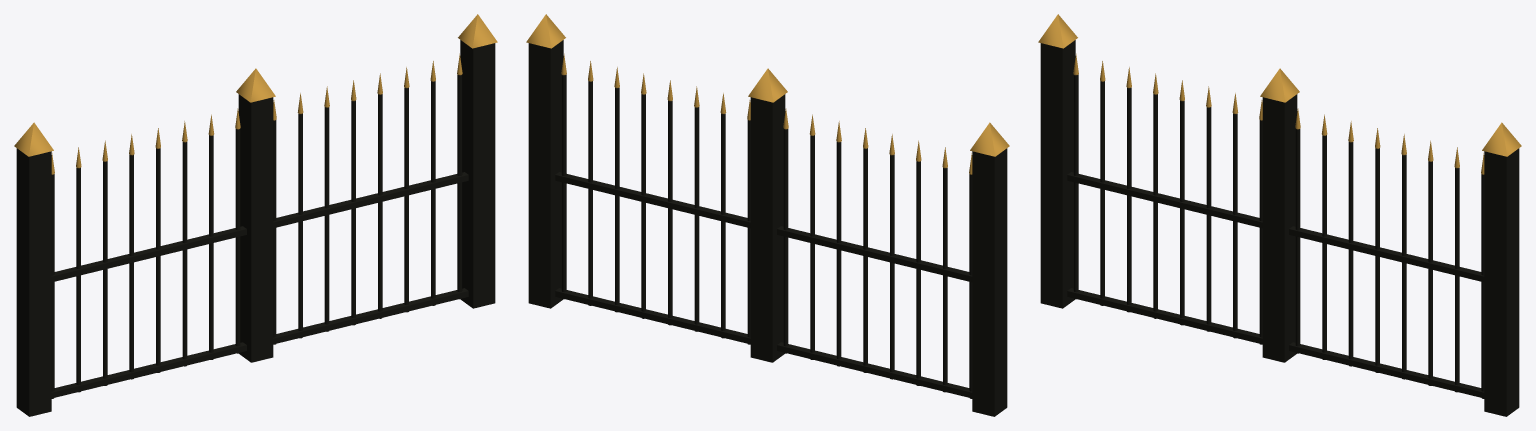
Rendered from fence-section.glb.
The picture shows the model from 3 angles, left to right: view 1: azimuth 30°, elevation 25°; view 2: azimuth 150°, elevation 25°; view 3: azimuth 330°, elevation 25°; orthographic projection.
Size of the model in its own units: 3.38 by 1.98 by 0.1838.
